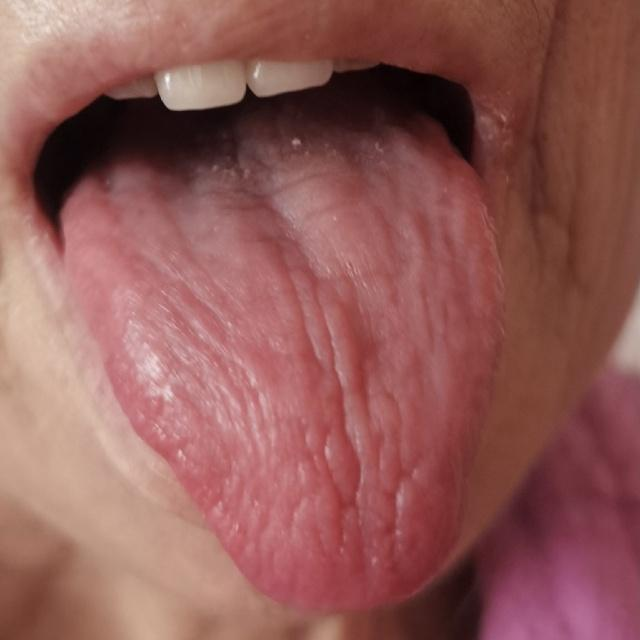hongshe: (59, 157, 506, 614)
liewenshe: (309, 368, 409, 581)
